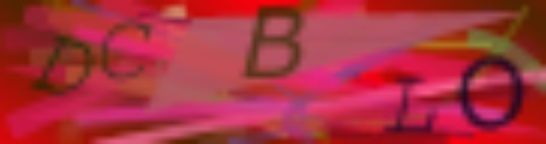B: (240, 3, 306, 84)
C: (97, 18, 155, 85)
D: (30, 36, 95, 98)
L: (382, 71, 438, 140)
O: (456, 54, 527, 135)
